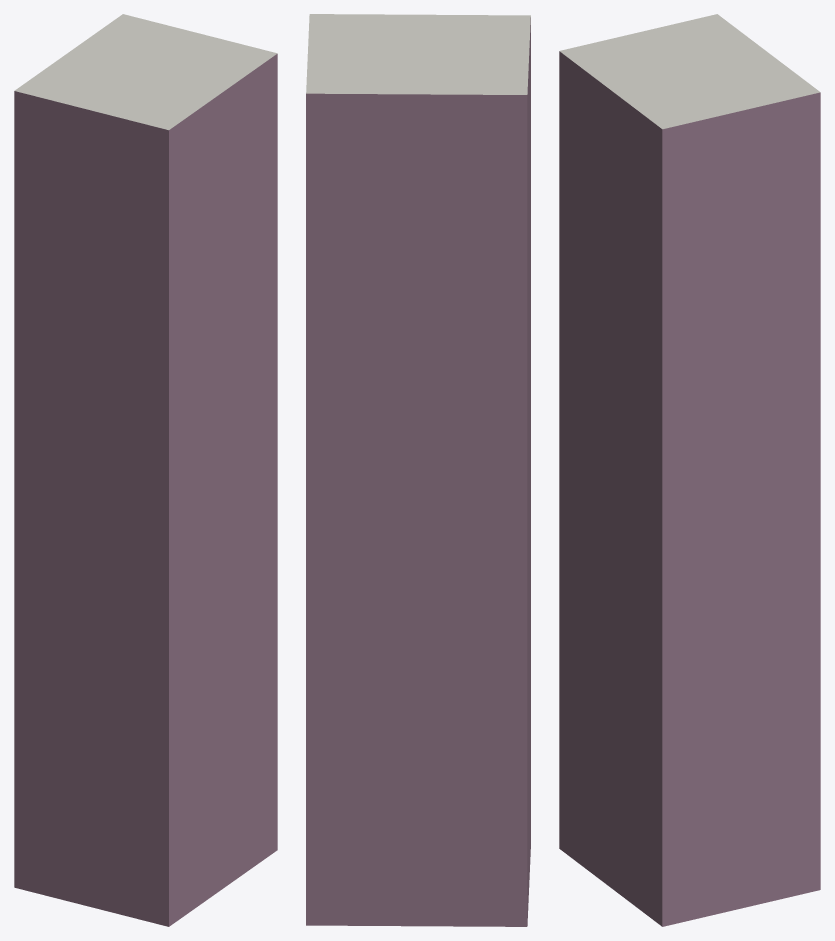
Rendered from nyc-1085016-0.glb.
3 views of the same model, side by side, from view 1: azimuth 30°, elevation 25°; view 2: azimuth 150°, elevation 25°; view 3: azimuth 270°, elevation 25° (orthographic). The views are drawn at different scales.
Visible parts, largest first — view 1: nyc-1085016-0; view 2: nyc-1085016-0; view 3: nyc-1085016-0.
Boxes of the visible parts, x1,y1,x2,y2 form: nyc-1085016-0: (14, 14, 277, 926); nyc-1085016-0: (306, 14, 530, 926); nyc-1085016-0: (559, 14, 820, 926).
Bounding box in the file's own units: 45.63 × 147 × 43.72.
